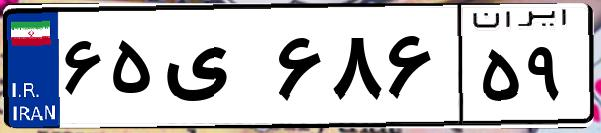5: (475, 38, 525, 113), (110, 28, 158, 98)
6: (270, 28, 330, 110), (385, 28, 445, 110), (57, 26, 110, 100)
8: (330, 28, 385, 110)
9: (525, 38, 570, 115)
ی: (158, 20, 270, 120)
